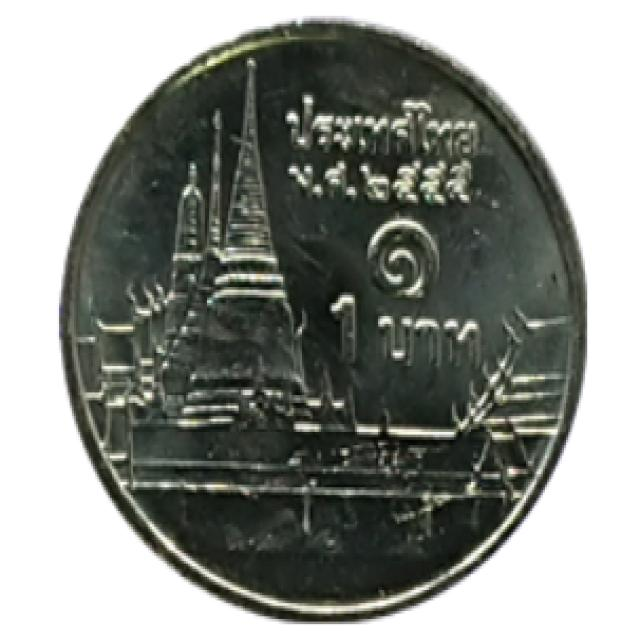1 Bath: (36, 7, 617, 638)
